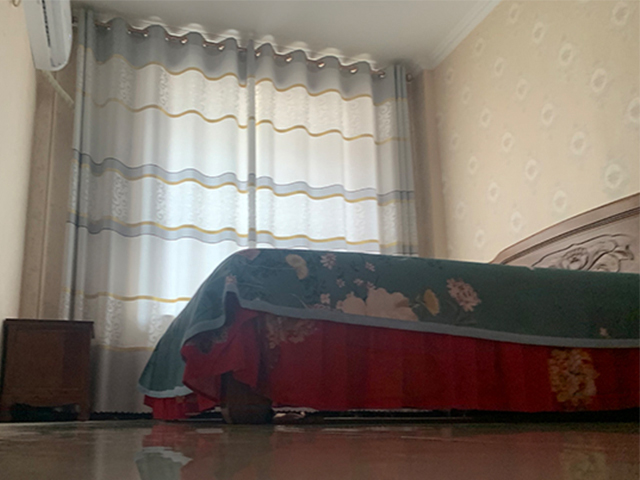bed: (138, 192, 640, 425)
cabinet: (2, 318, 95, 422)
curtain: (58, 8, 420, 415)
